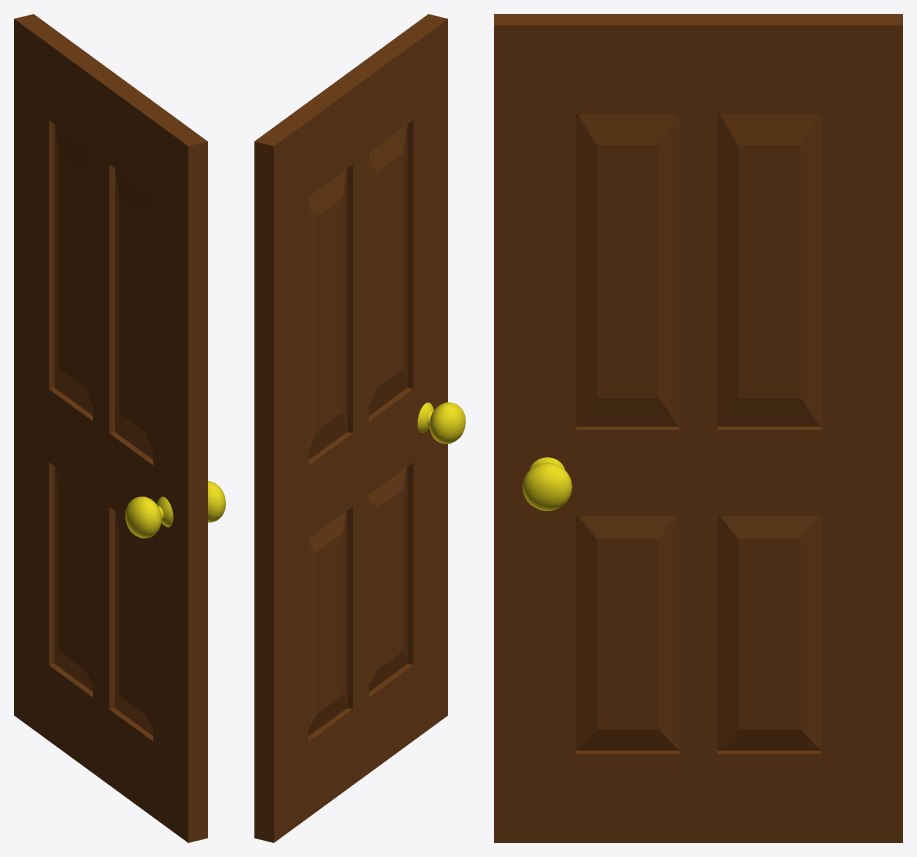
The model's file is Door.fbx.
The picture shows the model from 3 angles, left to right: view 1: azimuth 30°, elevation 25°; view 2: azimuth 150°, elevation 25°; view 3: azimuth 270°, elevation 25°; orthographic projection. The views are drawn at different scales.
Parts seen in each view (by area): view 1: Cube, Icosphere.001, Icosphere; view 2: Cube, Icosphere.001; view 3: Cube, Icosphere.
Part boxes in pixels (x1=…): Cube: x1=14, y1=14, x2=207, y2=842; Icosphere.001: x1=125, y1=496, x2=161, y2=538; Icosphere: x1=208, y1=481, x2=225, y2=522; Cube: x1=254, y1=14, x2=447, y2=842; Icosphere.001: x1=429, y1=402, x2=465, y2=443; Cube: x1=494, y1=14, x2=902, y2=842; Icosphere: x1=522, y1=462, x2=572, y2=511.
Bounding box in the file's own units: 2860 × 20300 × 9200.
